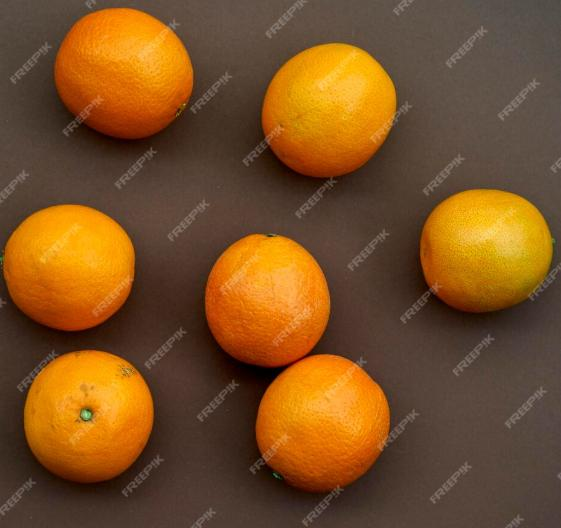orange: (244, 33, 411, 193), (245, 349, 405, 504), (190, 221, 350, 373), (48, 0, 200, 155), (411, 175, 560, 333), (0, 179, 146, 336), (17, 340, 163, 494)
